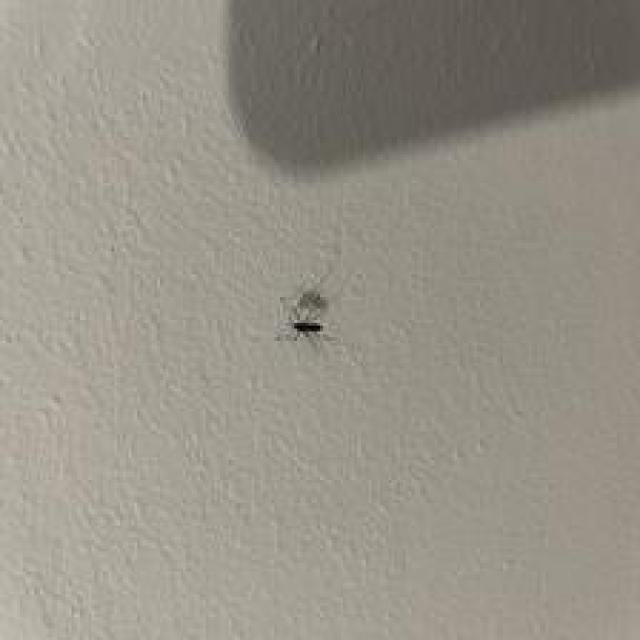Aedes albopictus: (284, 287, 330, 342)
